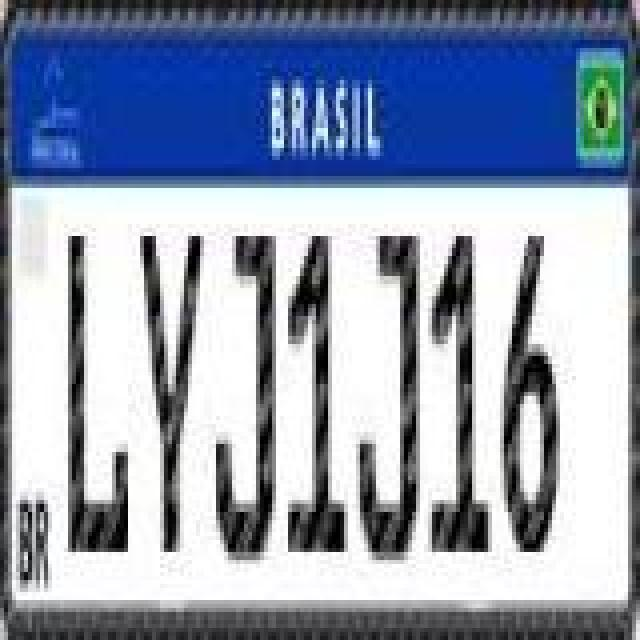1: (426, 224, 494, 560), (282, 230, 350, 554)
6: (496, 230, 560, 554)
J: (214, 232, 282, 568), (356, 228, 420, 572)
L: (66, 230, 126, 554)
Y: (138, 224, 206, 560)
